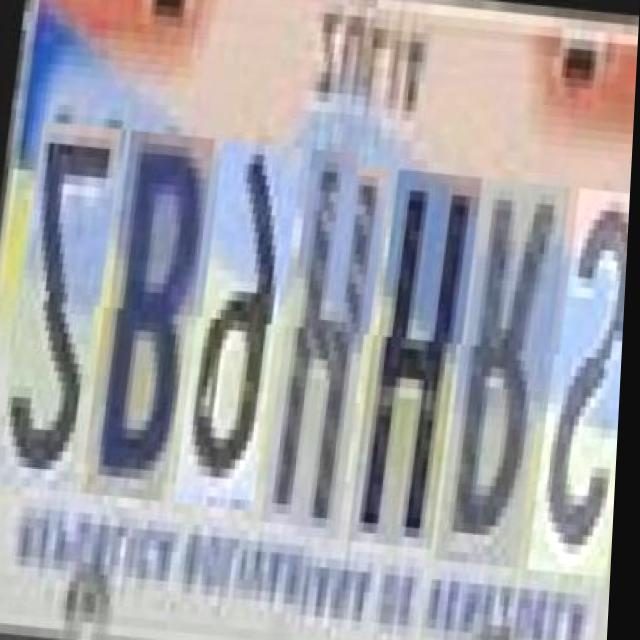2: (1, 121, 116, 490)
9: (182, 137, 297, 506)
b: (87, 128, 209, 498)
h: (356, 151, 478, 530), (268, 144, 385, 523)
r: (444, 157, 567, 547)
s: (535, 167, 633, 554)
